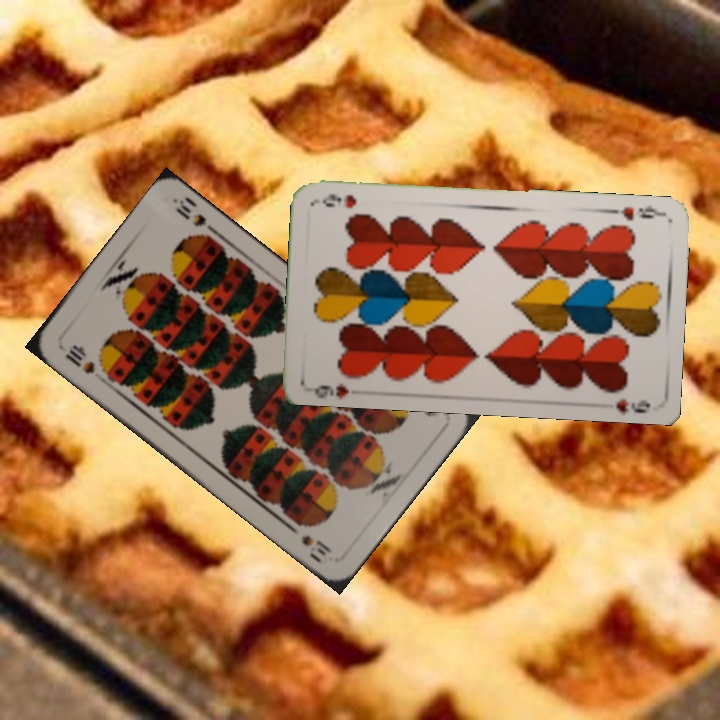H9: (605, 202, 665, 223), (310, 379, 351, 399)
S10: (61, 341, 111, 377)
